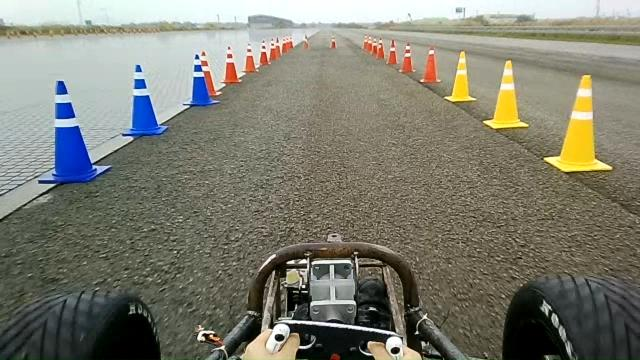blue cone: (38, 79, 112, 184), (121, 64, 169, 136), (182, 53, 220, 106)
red cone: (198, 50, 222, 96), (419, 45, 442, 84), (220, 45, 242, 84), (399, 40, 416, 74), (242, 42, 259, 73), (386, 38, 398, 65), (259, 39, 271, 66), (376, 38, 386, 60)
yellow cone: (542, 73, 612, 173), (482, 59, 530, 129), (444, 50, 476, 103)
